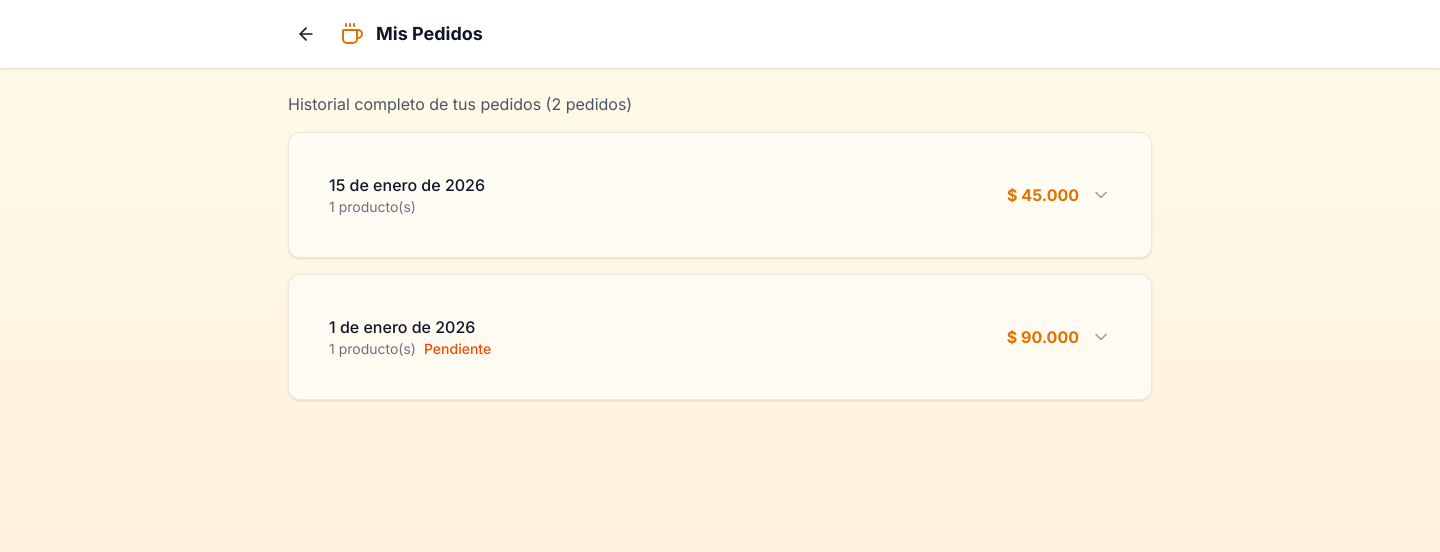
Test: PortalPedidosPage › Order Expansion › should only expand one order at a time
Expected: the text "15 de enero de 2026" is shown, x1=329 y1=173 x2=485 y2=197
Expected: the text "1 de enero de 2026" is shown, x1=329 y1=315 x2=491 y2=339
# Click first order
Click the text "15 de enero de 2026 1 producto(s) $ 45.000". click: (407, 185)
box: x1=329 y1=175 x2=1111 y2=215
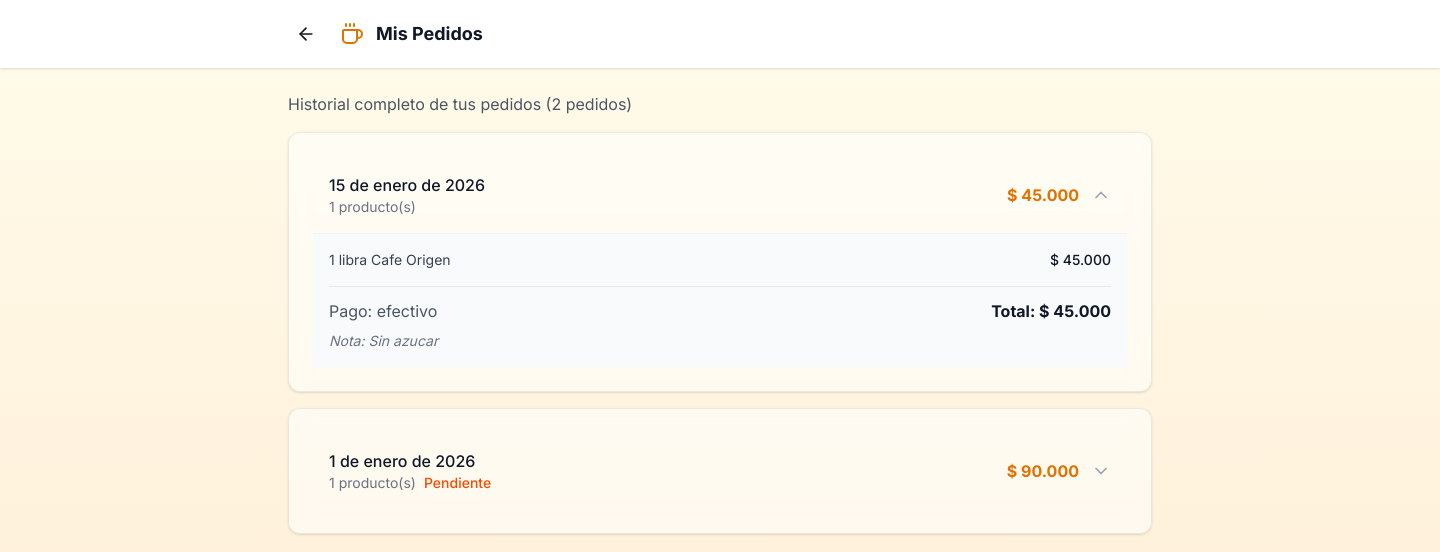
Result: the text "Pago: efectivo" is shown at x1=329 y1=299 x2=437 y2=323
# Click second order
Click the text "1 de enero de 2026 1 producto(s)Pendiente $ 90.000". click: (402, 461)
box: x1=329 y1=451 x2=1111 y2=491
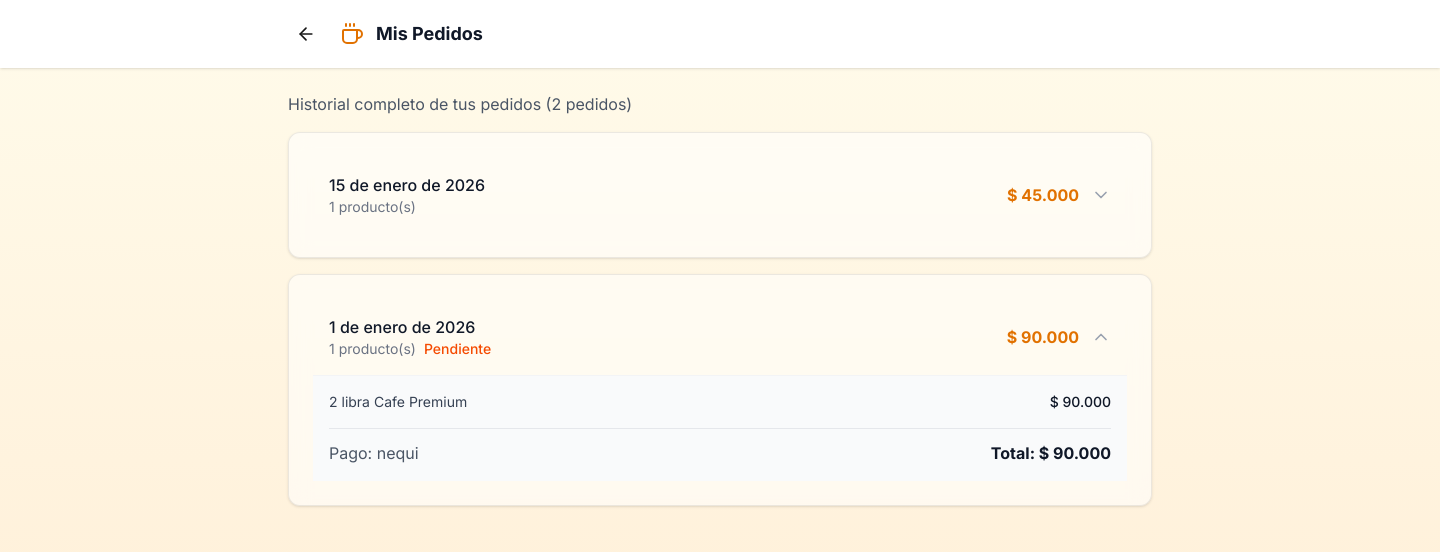
Result: the text "Pago: efectivo" is gone
Result: the text "Pago: nequi" is shown at x1=329 y1=441 x2=419 y2=465
